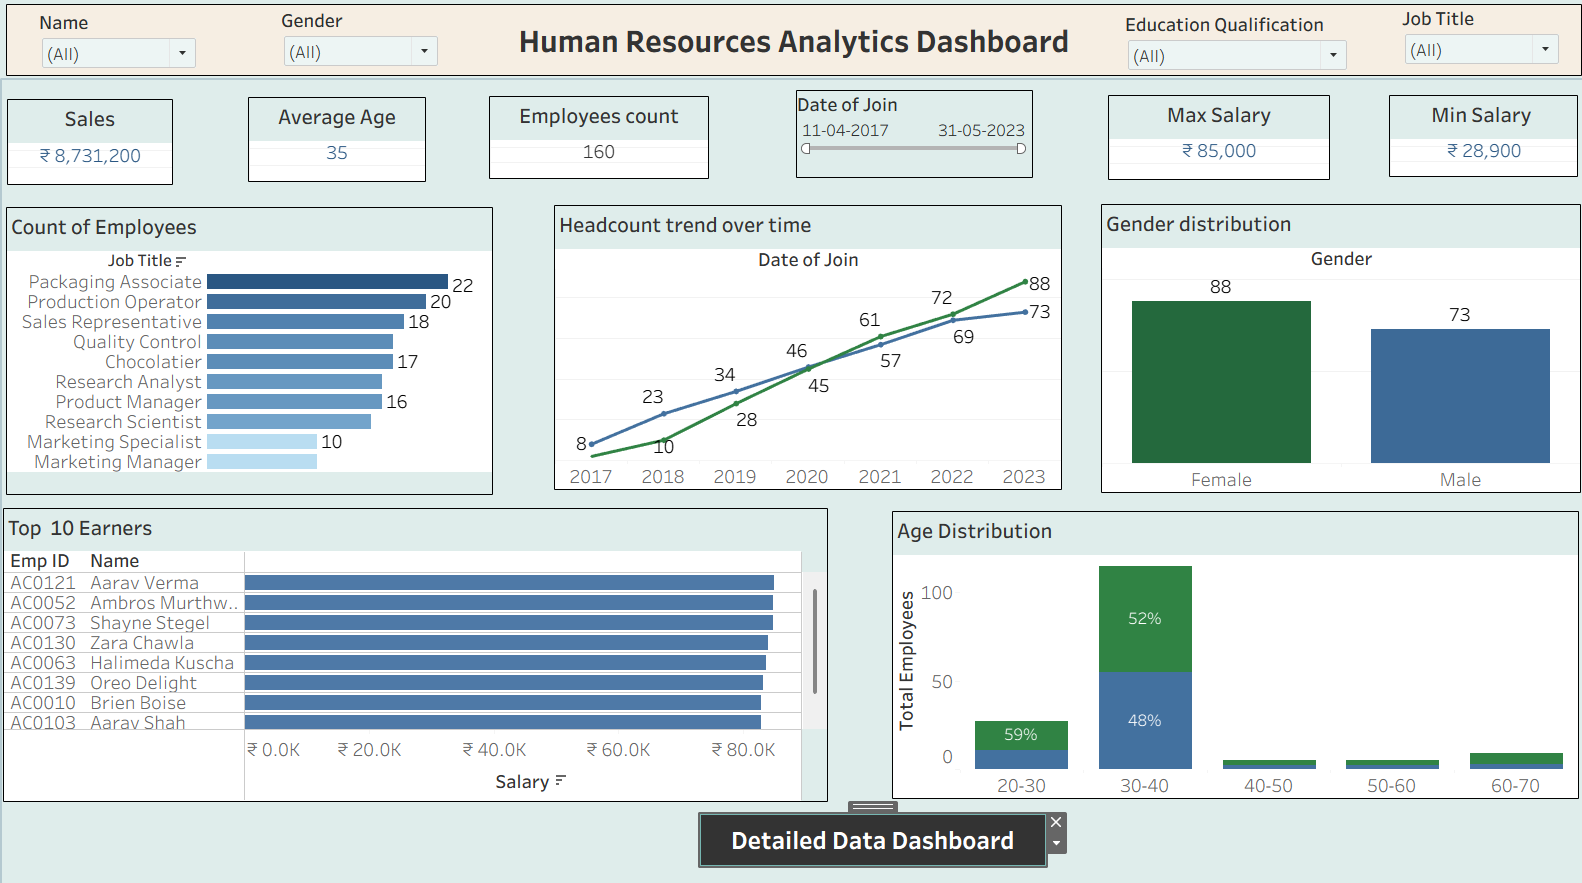

This screenshot's page, from the dashboard's own definition file:
{"tool":"tableau","page":{"name":"Distribution Data Dashboard ","canvas":[1600,900],"ordinal":1},"visuals":[{"type":"title","box":[8,8,1584,80]},{"type":"filter","title":"Age Distribution","param":"[federated.1pevwlk0fcv3vt0zs9u921hgrpn9].[none:Job Title:nk]","box":[1408,13,160,69]},{"type":"filter","title":"Gender distribution","param":"[federated.1pevwlk0fcv3vt0zs9u921hgrpn9].[none:Gender:nk]","box":[287,15,160,62]},{"type":"filter","title":"Gender distribution","param":"[federated.1pevwlk0fcv3vt0zs9u921hgrpn9].[none:Name:nk]","box":[45,17,160,62]},{"type":"filter","title":"Gender distribution","param":"[federated.1pevwlk0fcv3vt0zs9u921hgrpn9].[none:Education Qualification:nk]","box":[1131,19,225,62]},{"type":"filter","title":"Employees Count","param":"[federated.1pevwlk0fcv3vt0zs9u921hgrpn9].[none:Date of Join:qk]","box":[802,98,237,88]},{"type":"blank","box":[14,103,1576,89]},{"type":"worksheet","title":"Max Salary","mark":"Text","rows":["Salary"],"box":[1114,103,222,85]},{"type":"worksheet","title":"Min Salary ","mark":"Text","rows":["Salary"],"box":[1395,103,189,82]},{"type":"worksheet","title":"Employees Count","mark":"Text","rows":["Salary"],"box":[495,104,220,83]},{"type":"worksheet","title":"Average Age","mark":"Text","rows":["Salary"],"box":[254,105,178,85]},{"type":"worksheet","title":"Sales","mark":"Text","rows":["Salary"],"box":[13,107,166,86]},{"type":"worksheet","title":"Gender distribution","mark":"Automatic","rows":["data_8CF3784611444F499F4FE7BB9EDBD3D1"],"cols":["Gender"],"box":[1107,212,480,289]},{"type":"worksheet","title":"Headcount trend over time","mark":"Automatic","rows":["data_8CF3784611444F499F4FE7BB9EDBD3D1"],"cols":["Date of Join"],"box":[560,213,508,285]},{"type":"worksheet","title":"Count of Employees","mark":"Automatic","rows":["Job Title"],"cols":["data_8CF3784611444F499F4FE7BB9EDBD3D1"],"box":[12,215,487,288]},{"type":"worksheet","title":"Top Earners","mark":"Automatic","rows":["Emp ID","Name"],"cols":["Salary"],"box":[9,516,825,294]},{"type":"worksheet","title":"Age Distribution","mark":"Automatic","rows":["Age"],"cols":["Age (bin)"],"box":[898,519,687,288]},{"type":"dashboard-object","box":[706,822,346,52]}]}

Visuals, with their boxes in screenshot pixels (x1, y1, x2, y2), scaled from the page's 1600x900 canvas onto the 1582x883 screenshot:
title: select_region(8, 8, 1574, 86)
"Age Distribution" filter: select_region(1392, 13, 1550, 80)
"Gender distribution" filter: select_region(284, 15, 442, 76)
"Gender distribution" filter: select_region(44, 17, 203, 78)
"Gender distribution" filter: select_region(1118, 19, 1341, 79)
"Employees Count" filter: select_region(793, 96, 1027, 182)
blank: select_region(14, 101, 1572, 188)
"Max Salary" worksheet (Text marks): select_region(1101, 101, 1321, 184)
"Min Salary " worksheet (Text marks): select_region(1379, 101, 1566, 182)
"Employees Count" worksheet (Text marks): select_region(489, 102, 707, 183)
"Average Age" worksheet (Text marks): select_region(251, 103, 427, 186)
"Sales" worksheet (Text marks): select_region(13, 105, 177, 189)
"Gender distribution" worksheet: select_region(1095, 208, 1569, 492)
"Headcount trend over time" worksheet: select_region(554, 209, 1056, 489)
"Count of Employees" worksheet: select_region(12, 211, 493, 493)
"Top Earners" worksheet: select_region(9, 506, 825, 795)
"Age Distribution" worksheet: select_region(888, 509, 1567, 792)
dashboard-object: select_region(698, 806, 1040, 857)
